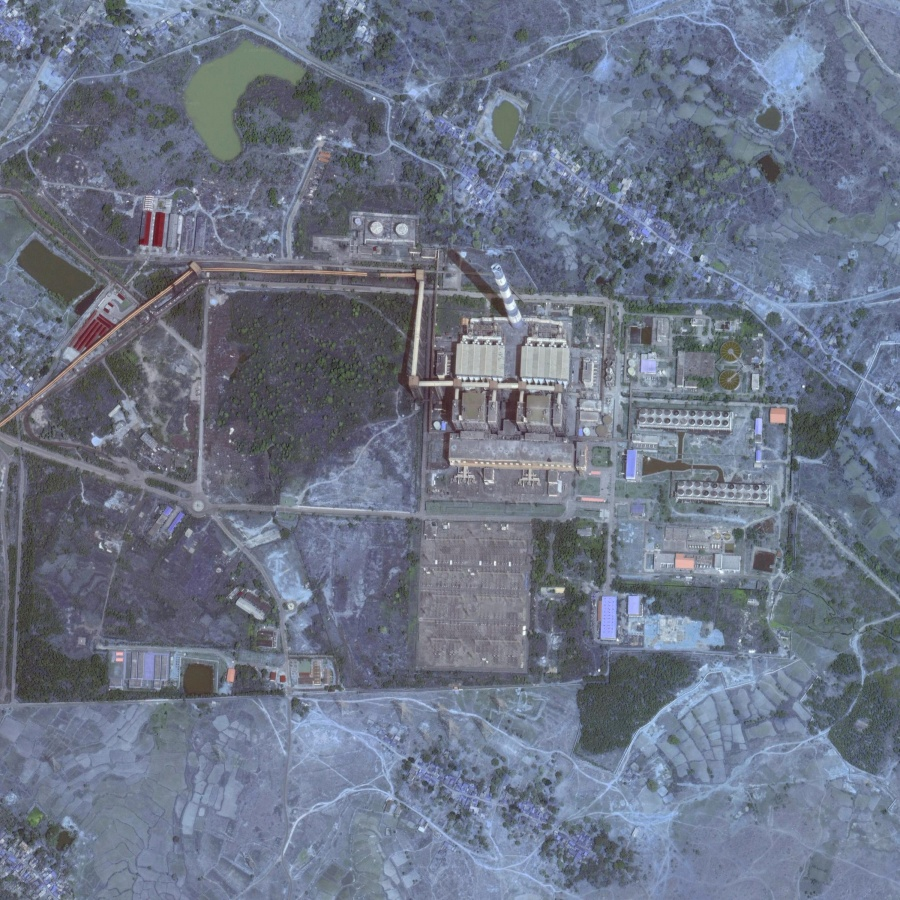PowerPlant: (422, 224, 576, 357)
